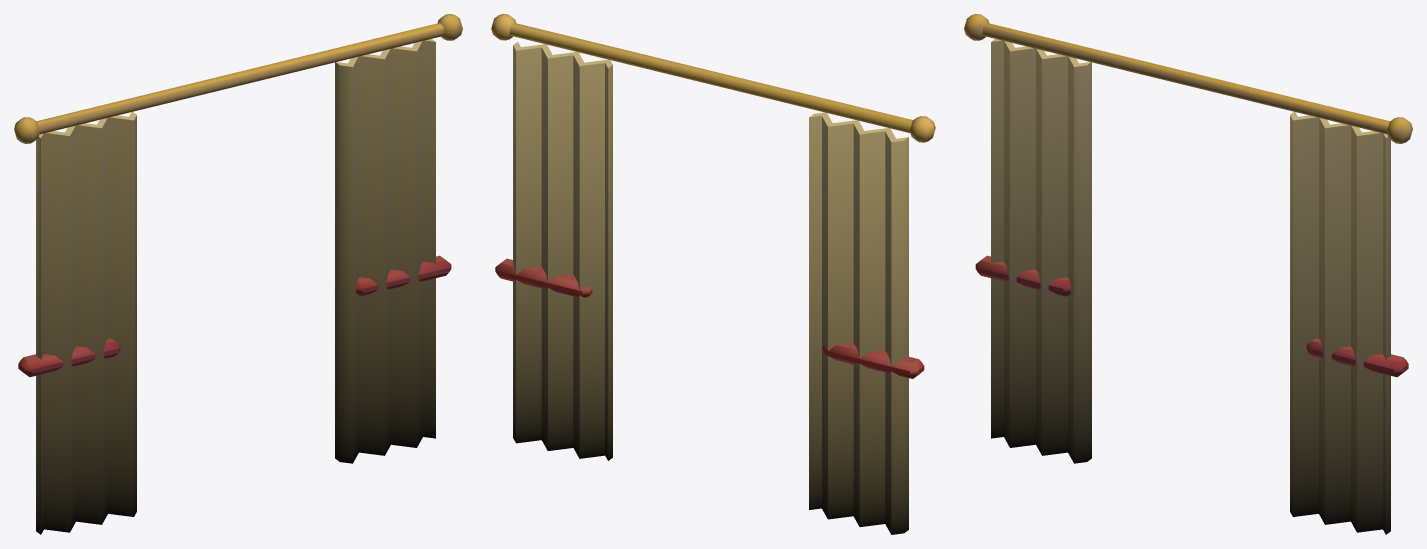
The model's file is Curtains.fbx.
3 renders of one model, left to right at view 1: azimuth 30°, elevation 25°; view 2: azimuth 150°, elevation 25°; view 3: azimuth 330°, elevation 25°, orthographic.
Visible parts, largest first — view 1: SM_Prop_Curtains; view 2: SM_Prop_Curtains; view 3: SM_Prop_Curtains.
Part boxes in pixels (x1,y1,x2,y2): SM_Prop_Curtains: (14, 14, 462, 534); SM_Prop_Curtains: (491, 14, 935, 534); SM_Prop_Curtains: (964, 14, 1412, 534).
Size of the model in its own units: 4.18 by 3.76 by 0.27.
